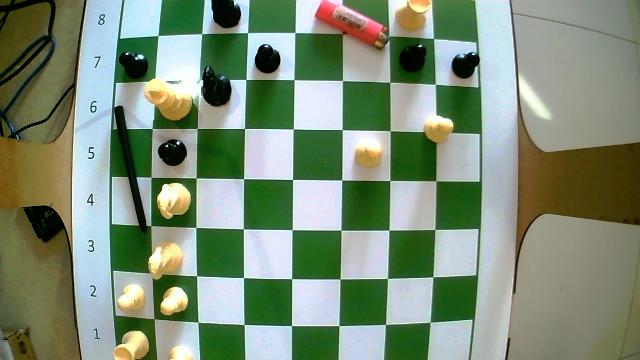piece: (145, 78, 189, 120), (149, 242, 182, 279), (201, 66, 230, 105), (157, 184, 189, 218), (396, 0, 429, 29), (114, 331, 148, 359), (160, 287, 188, 315), (117, 284, 145, 311), (158, 140, 187, 166), (212, 0, 239, 27), (119, 52, 148, 77), (425, 116, 452, 142), (400, 45, 426, 71), (451, 52, 478, 77), (255, 44, 279, 72), (355, 141, 378, 166), (169, 346, 192, 359)
